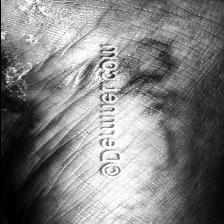Toxin: (119, 35, 184, 122), (0, 28, 38, 122), (5, 0, 57, 21)
